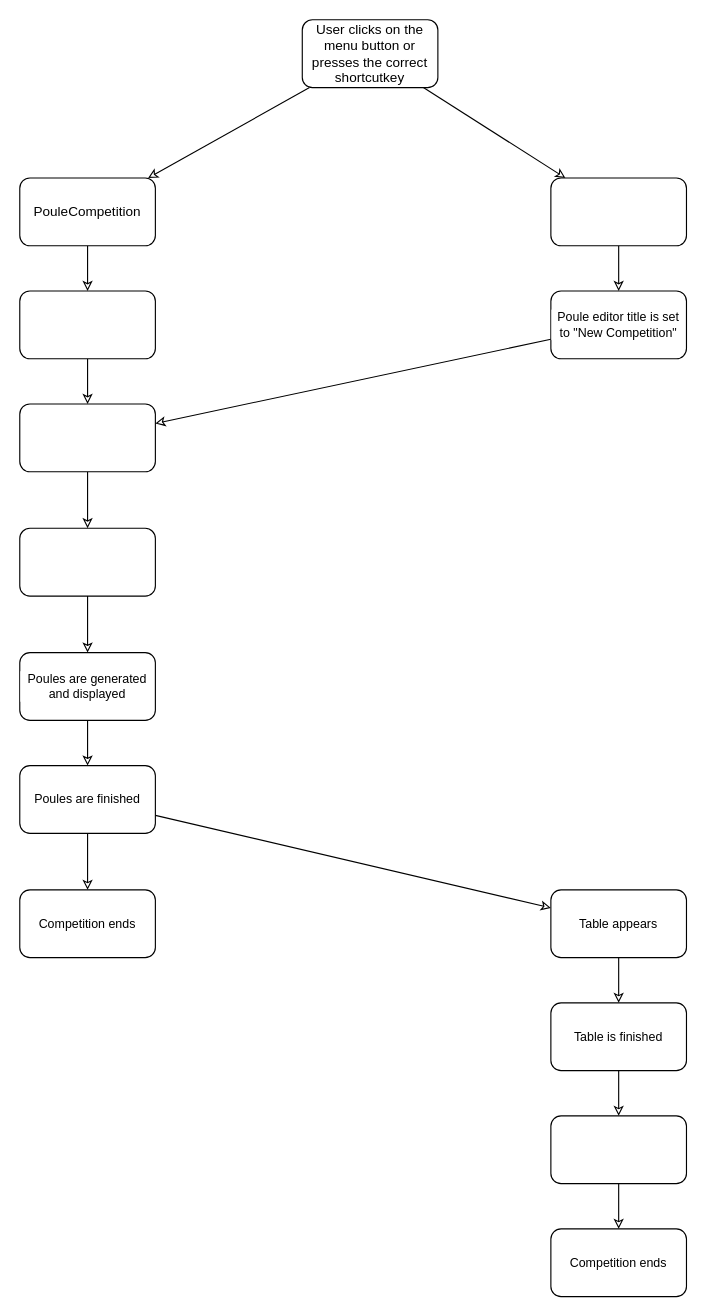
This 706x1316 diagram has some shape labels left out. The shapes that lost their labels are listed below. From the top down, each one's centre as x and y in pixels, then its label:
[618,211]: Competition
[87,324]: Poule editor title is set to "New Poule"
[87,437]: Poule editor appears
[87,561]: Competitors are selected
[618,1149]: Data is put into the database
